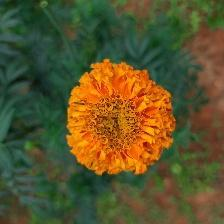marigold: (66, 57, 181, 184)
